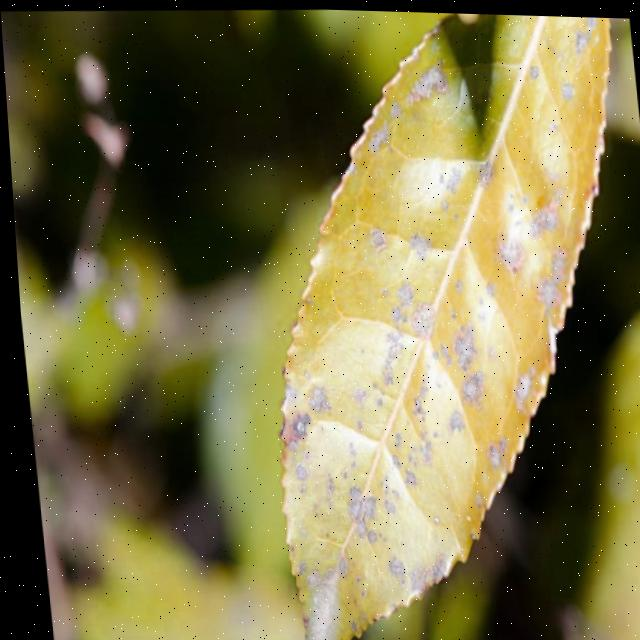Tea red rust: (239, 60, 618, 520)
